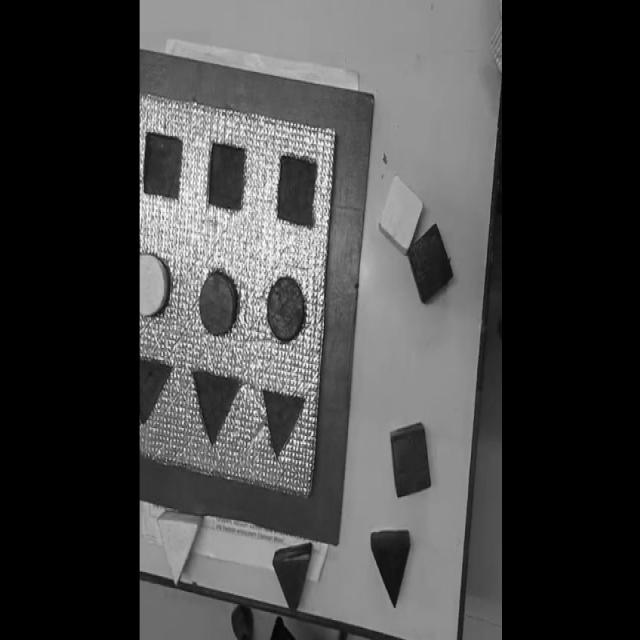bcircle: (264, 274, 308, 349)
bcube: (408, 221, 453, 305)
btriangle: (370, 528, 411, 608)
mtcube: (277, 153, 318, 227), (208, 140, 247, 211), (143, 131, 182, 199)
mttriangle: (192, 368, 242, 447), (261, 387, 306, 461), (139, 356, 171, 425)
rcircle: (198, 270, 236, 335)
rcube: (390, 421, 431, 499)
rtriangle: (272, 540, 313, 614)
wb: (139, 89, 337, 506)
ycircle: (140, 251, 170, 319)
ycube: (380, 174, 425, 258)
ytriangle: (157, 508, 203, 587)
